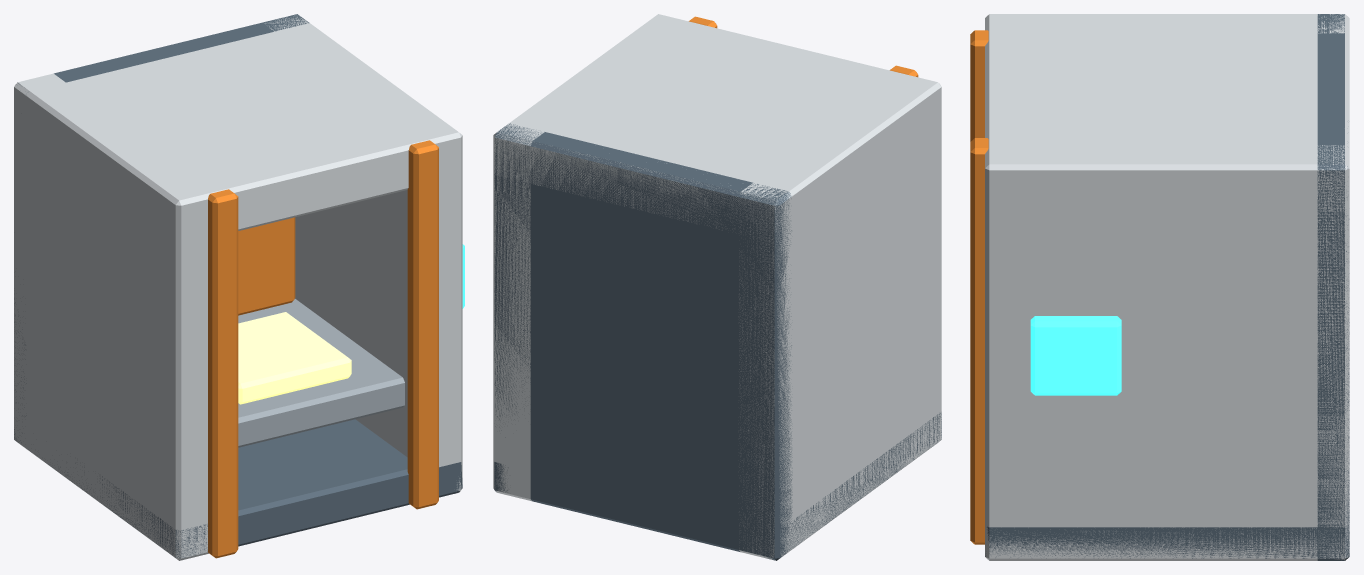
Rendered from machine-press.fbx.
3 renders of one model, left to right at view 1: azimuth 30°, elevation 25°; view 2: azimuth 150°, elevation 25°; view 3: azimuth 270°, elevation 25°, orthographic. The views are drawn at different scales.
Parts seen in each view (by area): view 1: machine-press_Machine column.002, machine-press_Crown.001, machine-press_Machine column.003, machine-press_Skid.001, machine-press_Orange spine.003, machine-press_Orange spine.002, machine-press_Working bed.001, machine-press_Workpiece.001, machine-press_Actuator.001, machine-press_Backplane.001; view 2: machine-press_Backplane.001, machine-press_Machine column.002, machine-press_Crown.001, machine-press_Machine column.003, machine-press_Skid.001; view 3: machine-press_Machine column.003, machine-press_Crown.001, machine-press_Backplane.001, machine-press_Skid.001, machine-press_Operator display.001, machine-press_Machine column.002, machine-press_Orange spine.003, machine-press_Orange spine.002.
Part boxes in pixels (<box>): machine-press_Machine column.002: <box>14,73,214,560</box>; machine-press_Crown.001: <box>34,32,462,243</box>; machine-press_Machine column.003: <box>264,14,462,492</box>; machine-press_Skid.001: <box>19,419,462,559</box>; machine-press_Orange spine.003: <box>407,140,438,509</box>; machine-press_Orange spine.002: <box>208,189,238,558</box>; machine-press_Working bed.001: <box>238,299,404,447</box>; machine-press_Workpiece.001: <box>238,312,351,404</box>; machine-press_Actuator.001: <box>238,217,295,315</box>; machine-press_Backplane.001: <box>14,14,309,440</box>; machine-press_Backplane.001: <box>494,123,792,560</box>; machine-press_Machine column.002: <box>738,73,941,560</box>; machine-press_Crown.001: <box>493,22,941,238</box>; machine-press_Machine column.003: <box>493,14,693,501</box>; machine-press_Skid.001: <box>494,412,941,557</box>; machine-press_Machine column.003: <box>985,145,1349,560</box>; machine-press_Crown.001: <box>985,33,1349,211</box>; machine-press_Backplane.001: <box>1317,14,1349,560</box>; machine-press_Skid.001: <box>985,526,1349,559</box>; machine-press_Operator display.001: <box>1030,316,1121,395</box>; machine-press_Machine column.002: <box>985,14,1349,36</box>; machine-press_Orange spine.003: <box>970,138,988,544</box>; machine-press_Orange spine.002: <box>970,30,988,141</box>.
Bounding box in the file's own units: 216 × 240 × 208.
